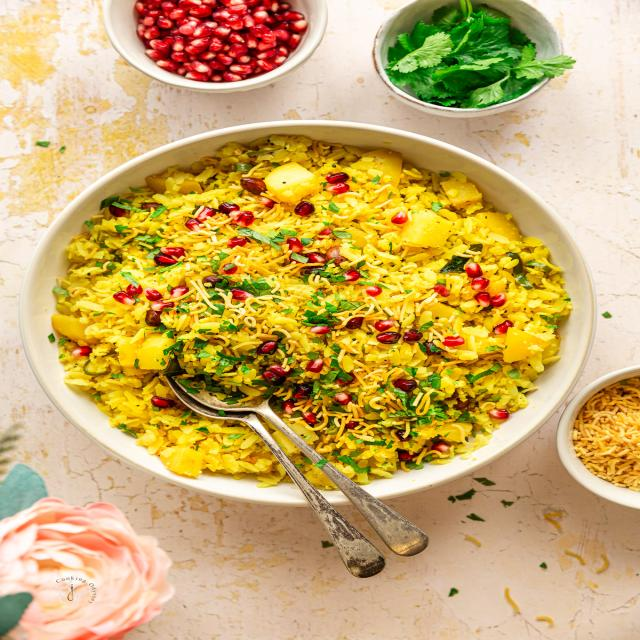POHA: (48, 138, 569, 480)
